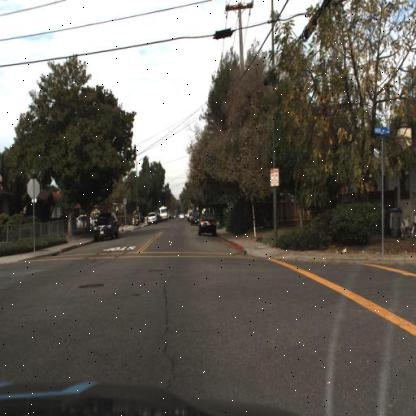car: (88, 209, 122, 244), (96, 210, 121, 243), (196, 211, 218, 240), (195, 214, 218, 241), (146, 212, 160, 230), (145, 210, 160, 226)
